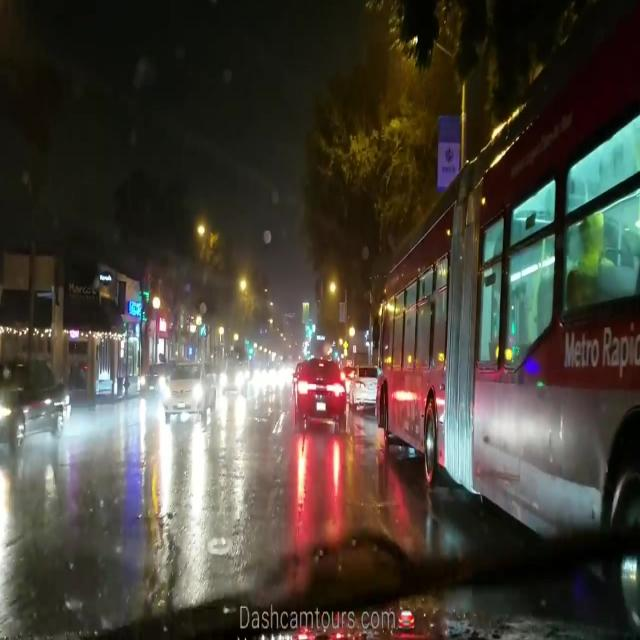Car: (1, 366, 68, 450), (294, 354, 343, 434), (160, 358, 215, 424), (219, 353, 250, 393), (350, 364, 377, 409)
